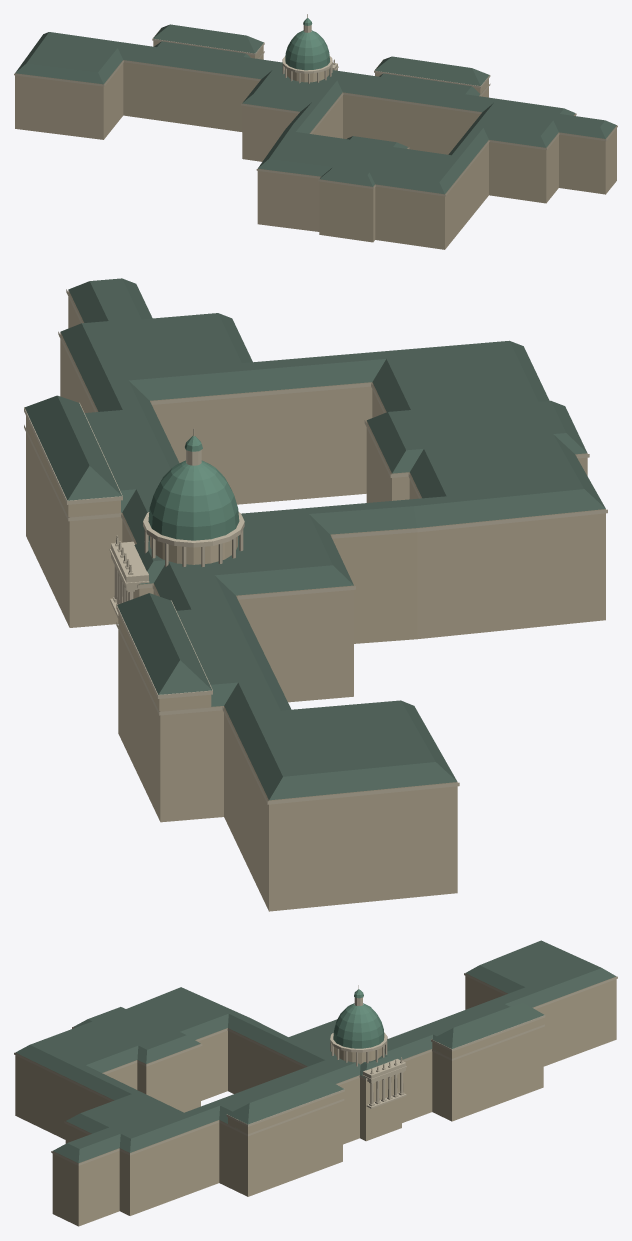
The model's file is palace.glb.
3 views of the same model, one above another, from view 1: azimuth 30°, elevation 25°; view 2: azimuth 150°, elevation 25°; view 3: azimuth 270°, elevation 25° (orthographic). The views are drawn at different scales.
Visible parts, largest first — view 1: palace; view 2: palace; view 3: palace.
Boxes of the visible parts, x1,y1,x2,y2 form: palace: [14, 14, 617, 249]; palace: [24, 278, 607, 911]; palace: [14, 940, 617, 1226].
Size of the model in its own units: 256 by 74.52 by 295.
